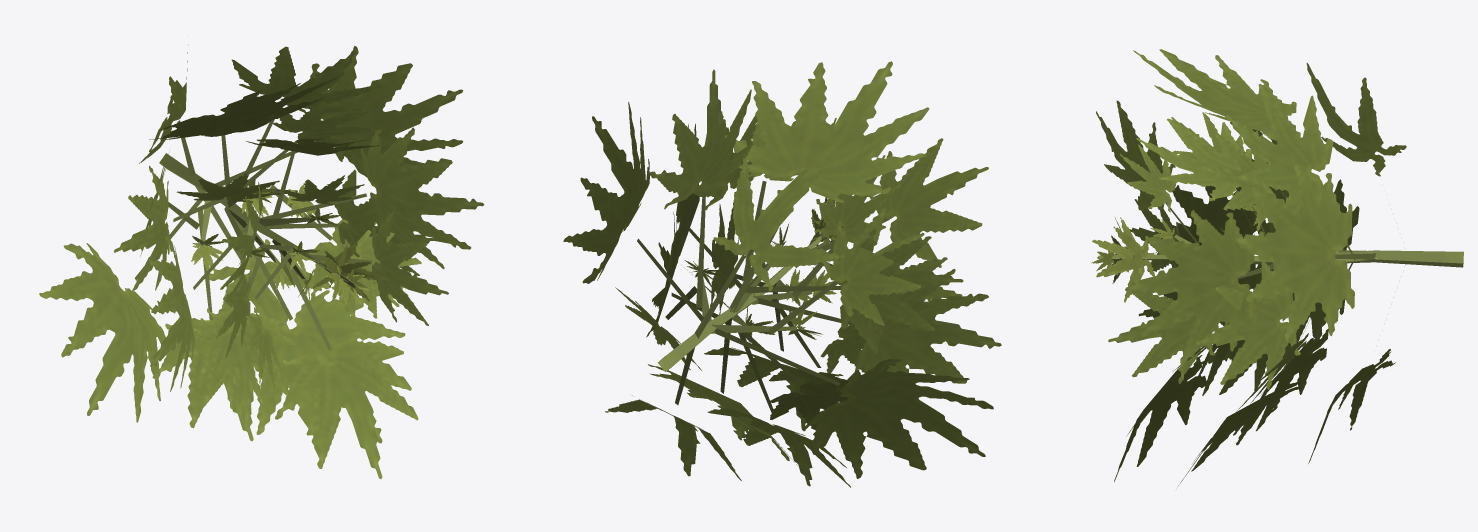
File: p_haze_vegetative_c1_cards.obj
The picture shows the model from 3 angles, left to right: view 1: azimuth 30°, elevation 25°; view 2: azimuth 150°, elevation 25°; view 3: azimuth 270°, elevation 25°; orthographic projection. The views are drawn at different scales.
Bounding box in the file's own units: 1.35 × 1.21 × 0.898.
Materials: 1 (1 with a texture image).
